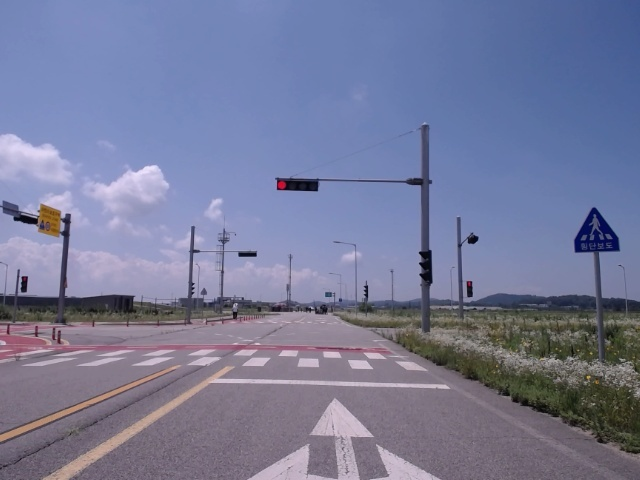red_4: (276, 180, 318, 191)
